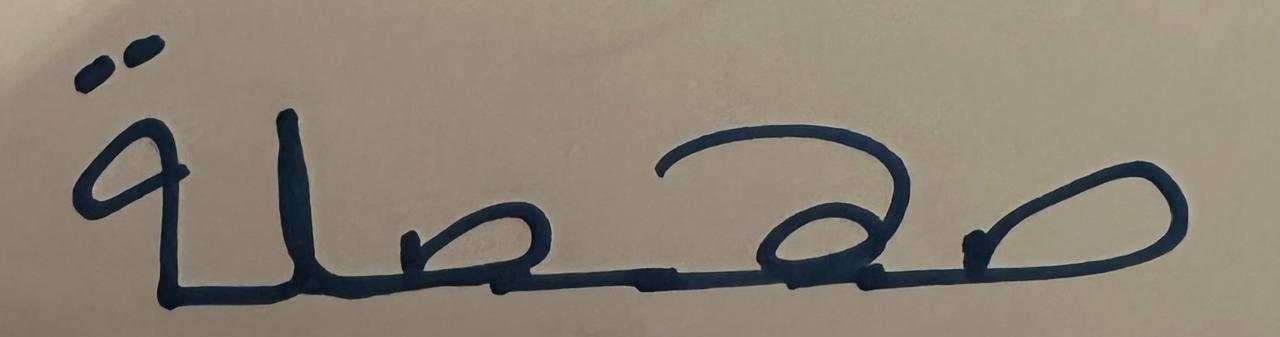jeem: (587, 20, 928, 322)
meem: (215, 59, 341, 315)
seen: (932, 71, 1228, 313), (345, 100, 584, 317)
thal: (38, 14, 212, 320)
